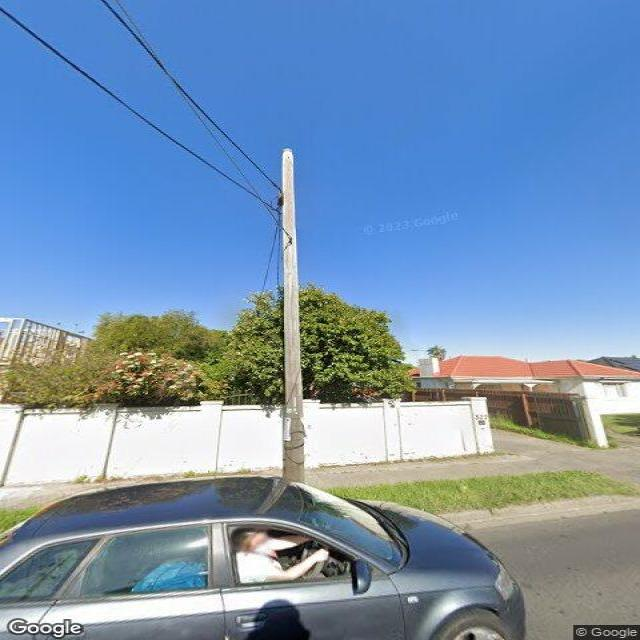timber-pole: (280, 149, 305, 486)
